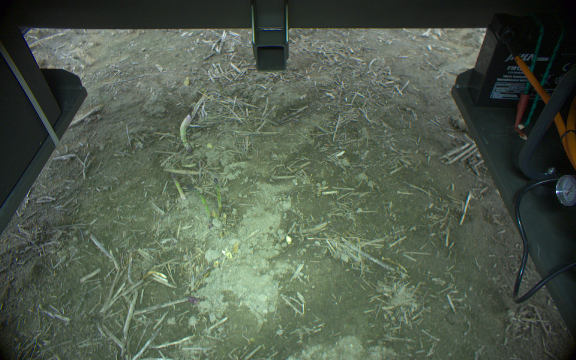aspa: (187, 184, 212, 221), (165, 169, 189, 200), (176, 115, 195, 151), (209, 178, 226, 211)
